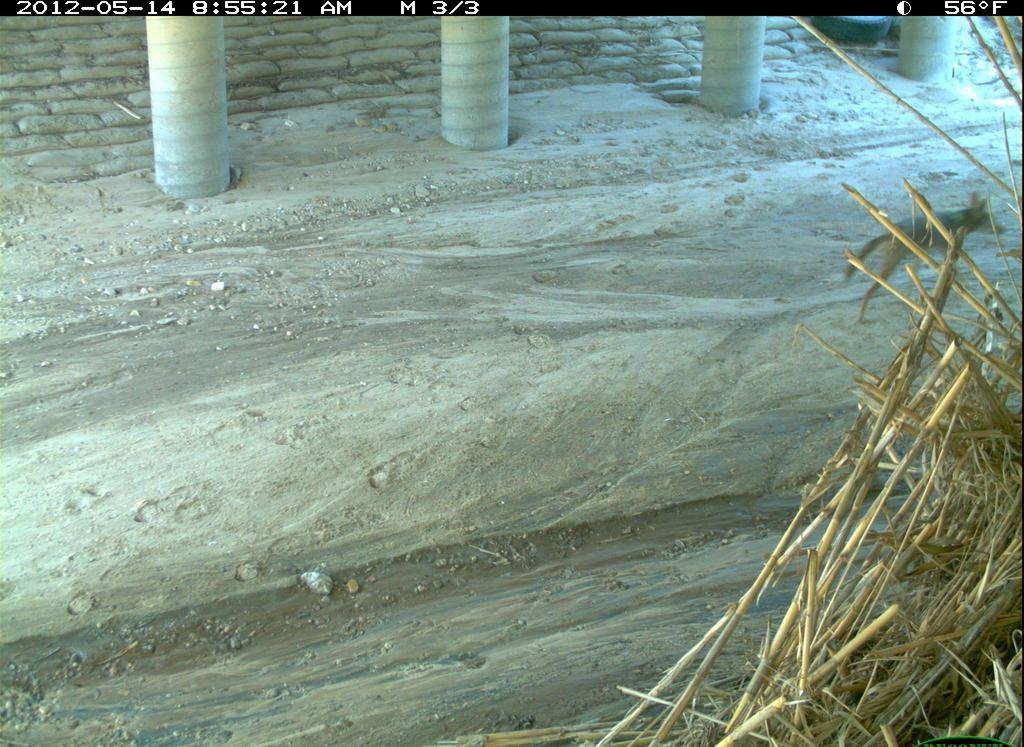coyote: (835, 187, 1012, 329)
